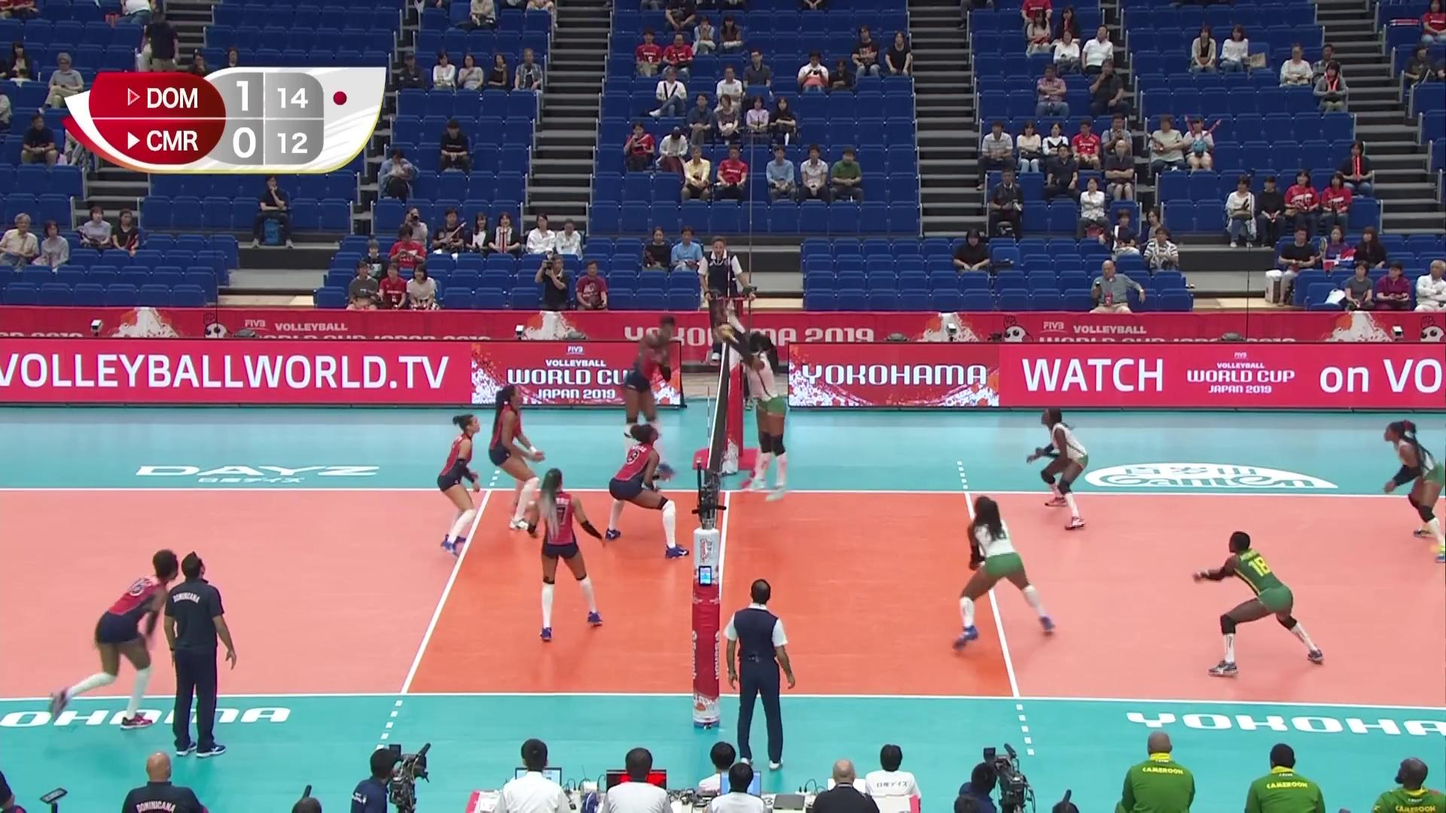player: (47, 545, 181, 729), (1194, 531, 1331, 676), (955, 499, 1060, 651), (526, 466, 604, 641), (740, 331, 798, 502), (480, 389, 543, 546), (621, 312, 682, 470), (605, 424, 679, 552), (1384, 422, 1446, 566), (434, 414, 496, 553), (1032, 411, 1096, 529)
refree: (724, 577, 802, 769), (695, 237, 755, 361)
